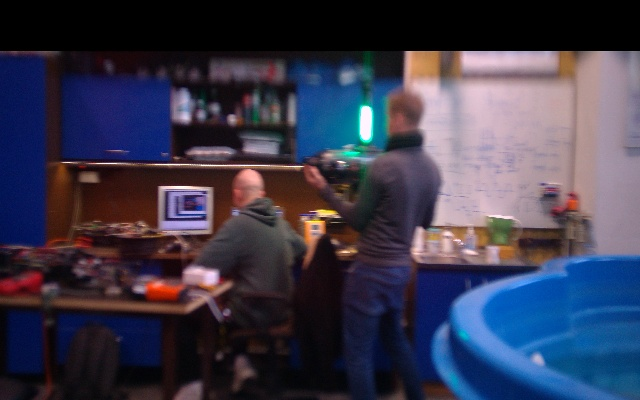green: (359, 103, 372, 148)
